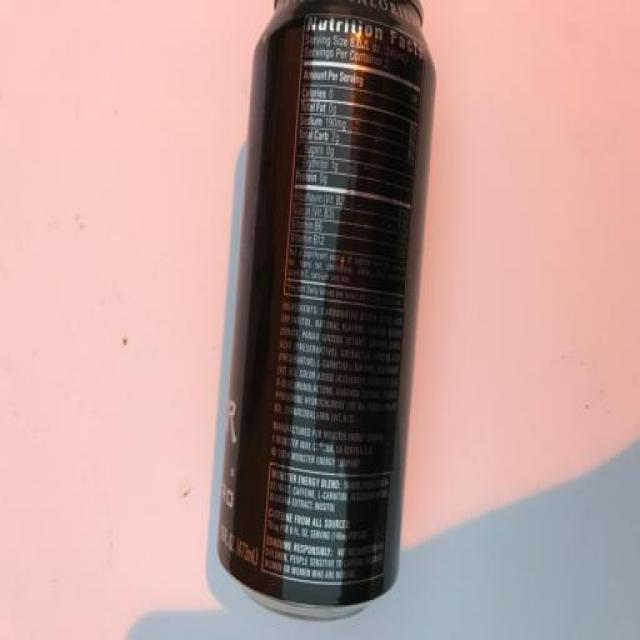others: (207, 1, 447, 640)
